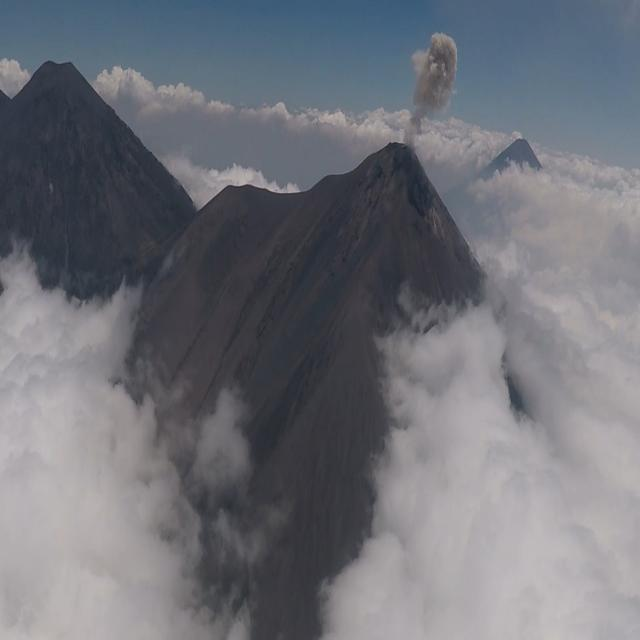Plume: (412, 29, 462, 121)
Summit: (306, 139, 469, 247)
